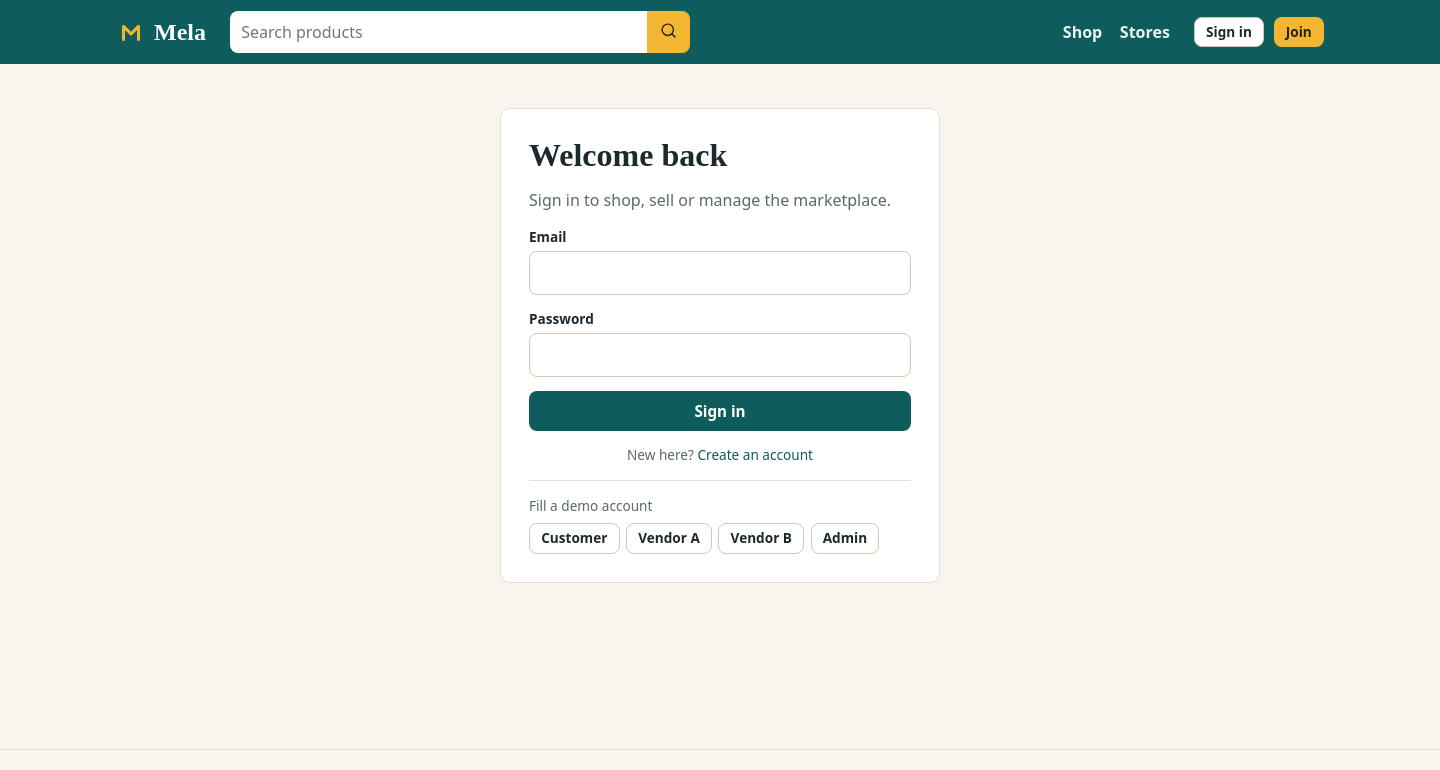
it: login › submits credentials and sends a customer to the storefront
The width and height of the screenshot is (1440, 770).
Type "customer@example.com" into the field labelled "Email".
click(720, 273); type("customer@example.com")  # box x1=529 y1=251 x2=911 y2=294
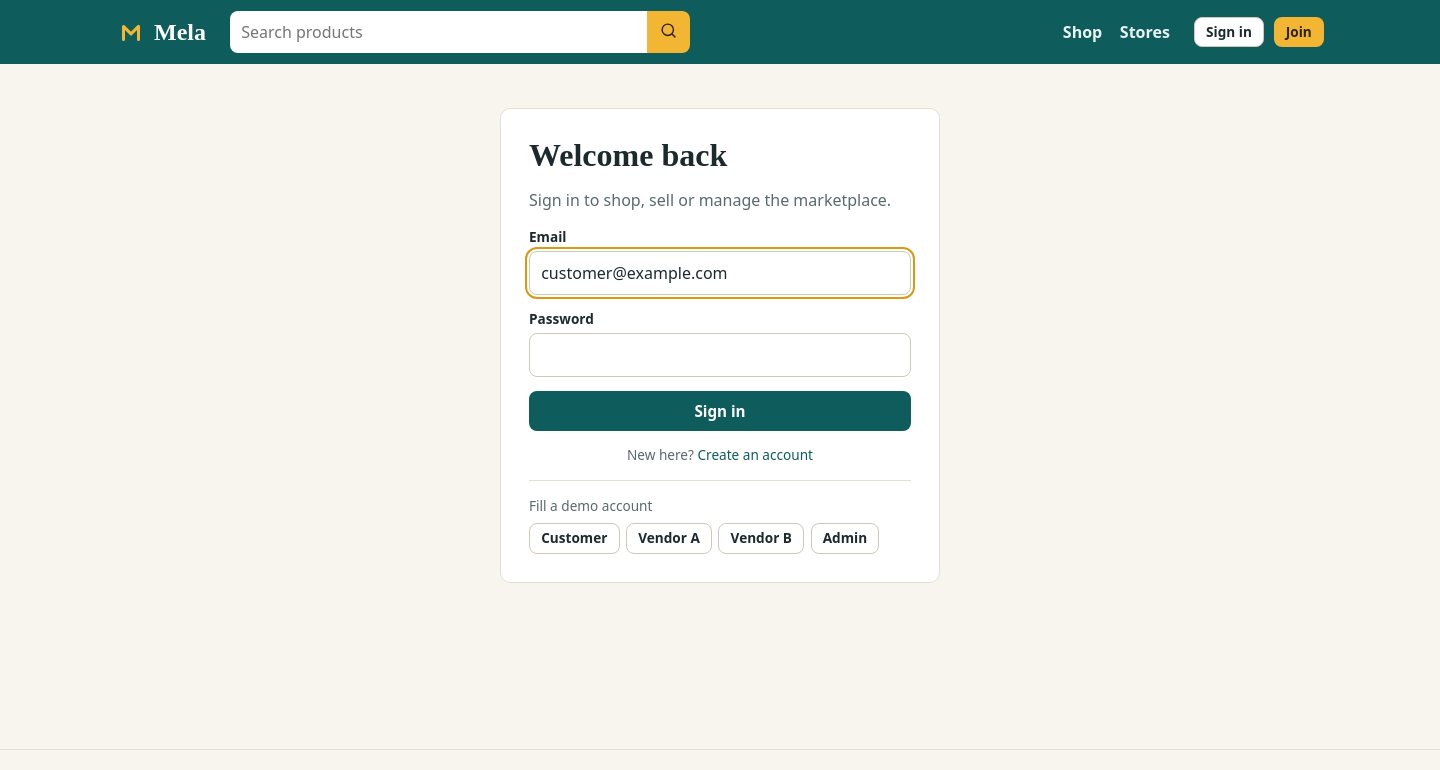
Type "Customer@12345" into the password field labelled "Password".
click(720, 355); type("Customer@12345")  # box x1=529 y1=333 x2=911 y2=377
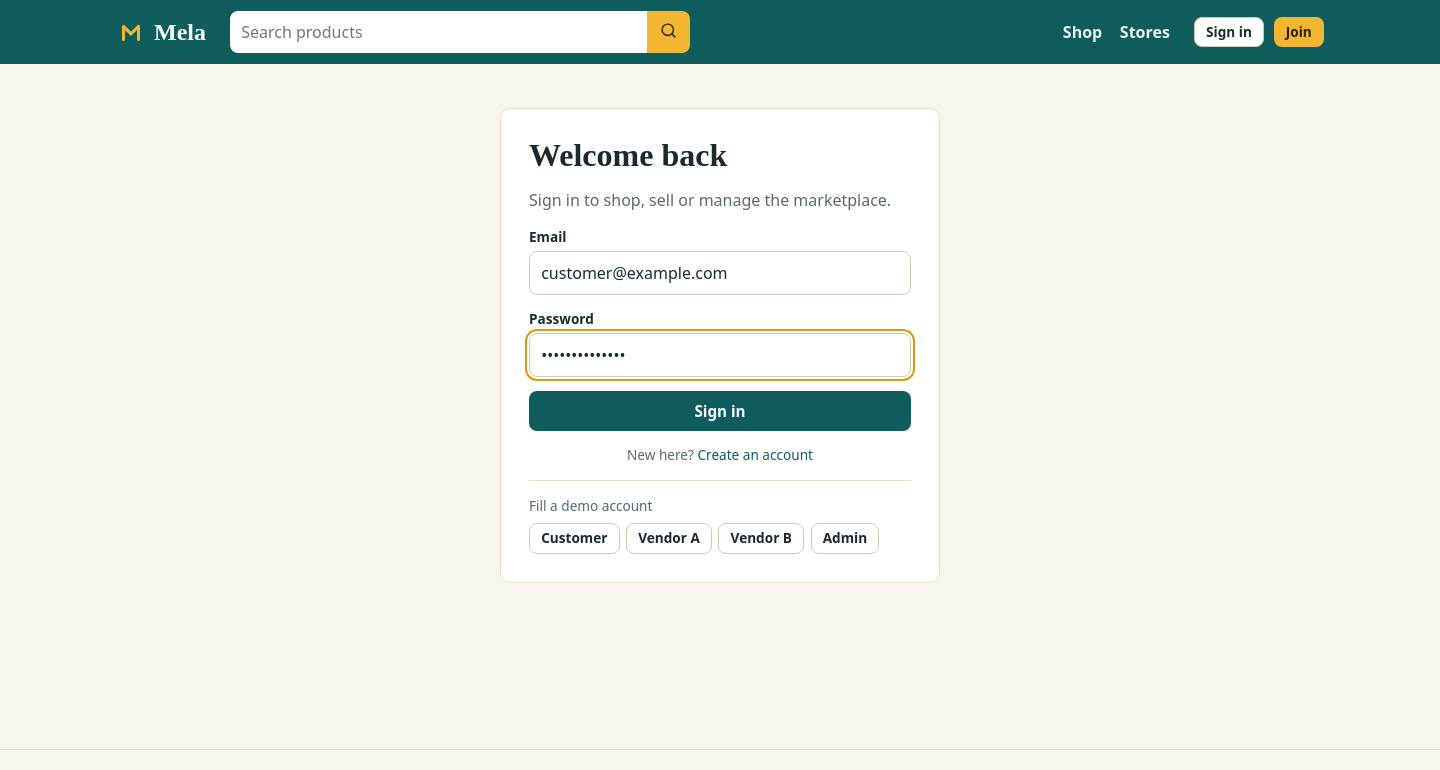
Click the button "Sign in".
click(720, 411)  # box x1=529 y1=391 x2=911 y2=431
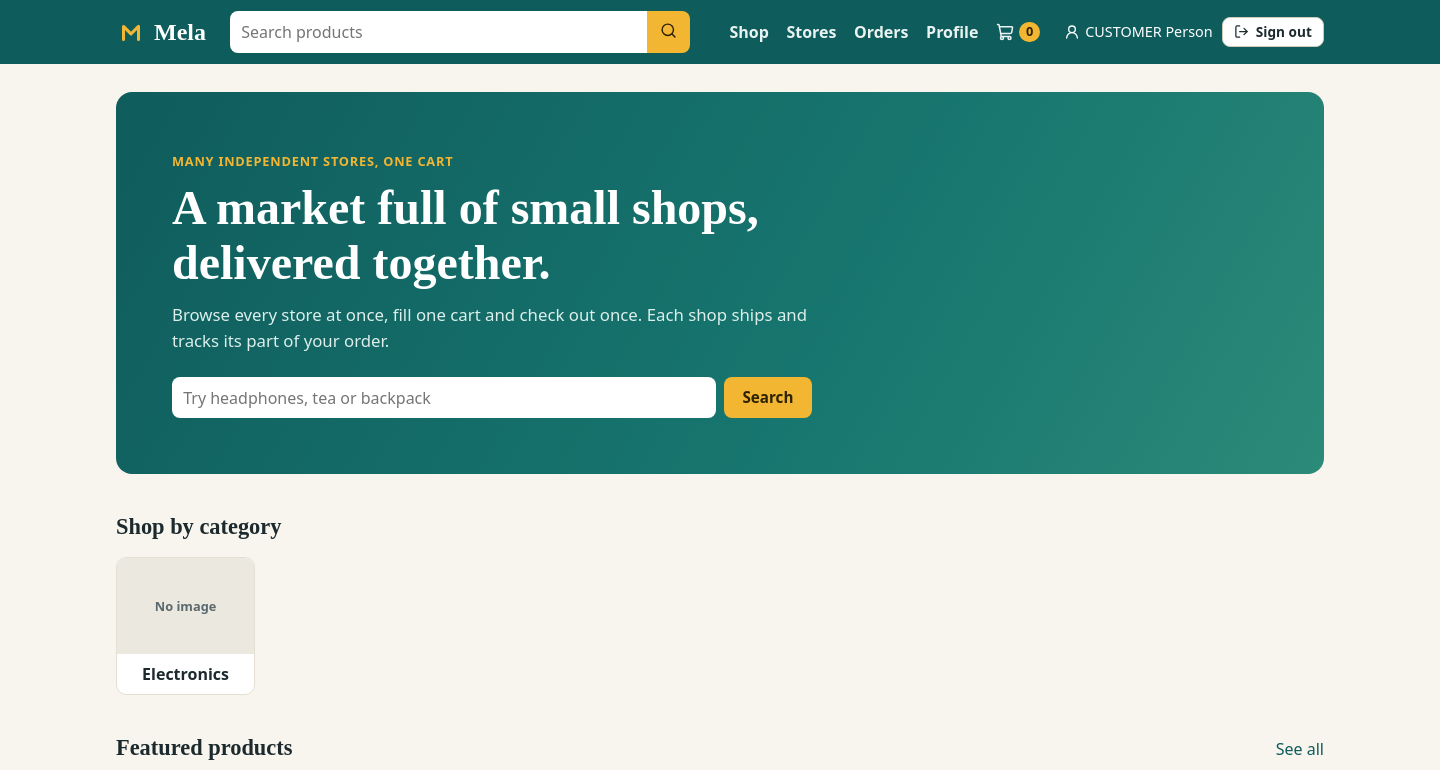
Result: the heading "Shop by category" is shown at x1=116 y1=514 x2=282 y2=539
